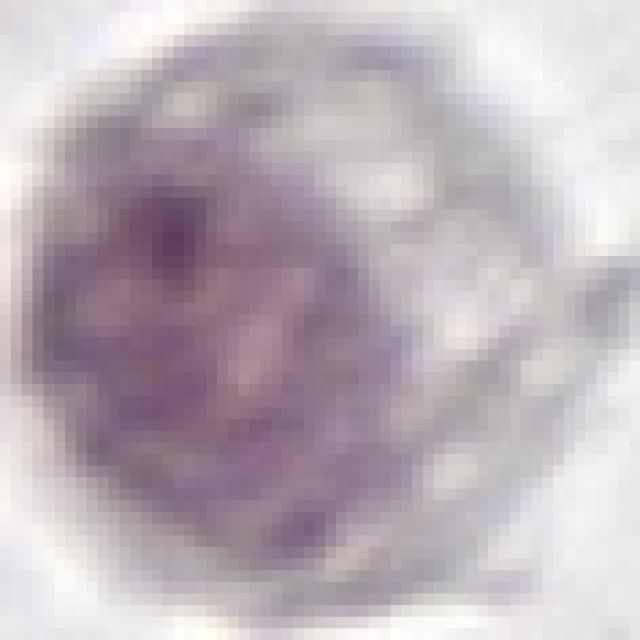nucleus: (0, 54, 484, 639)
